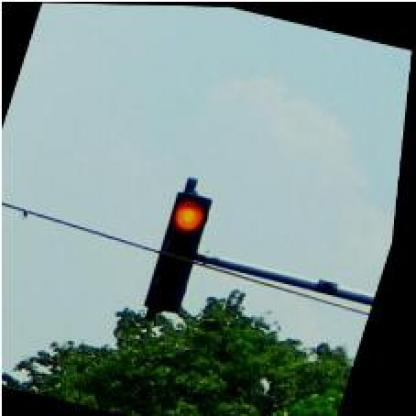red: (147, 188, 220, 310)
